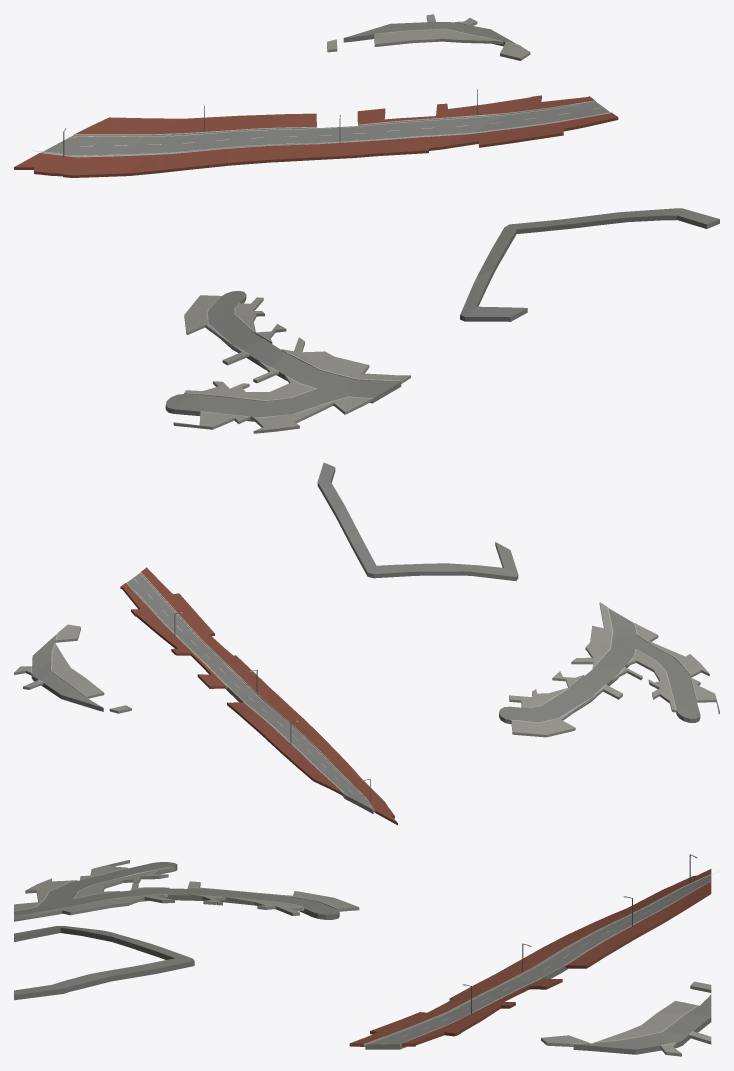
3 views of the same model, one above another, from view 1: azimuth 30°, elevation 25°; view 2: azimuth 150°, elevation 25°; view 3: azimuth 270°, elevation 25° (orthographic). The views are drawn at different scales.
Size of the model in its own units: 147 by 31.9 by 148.
